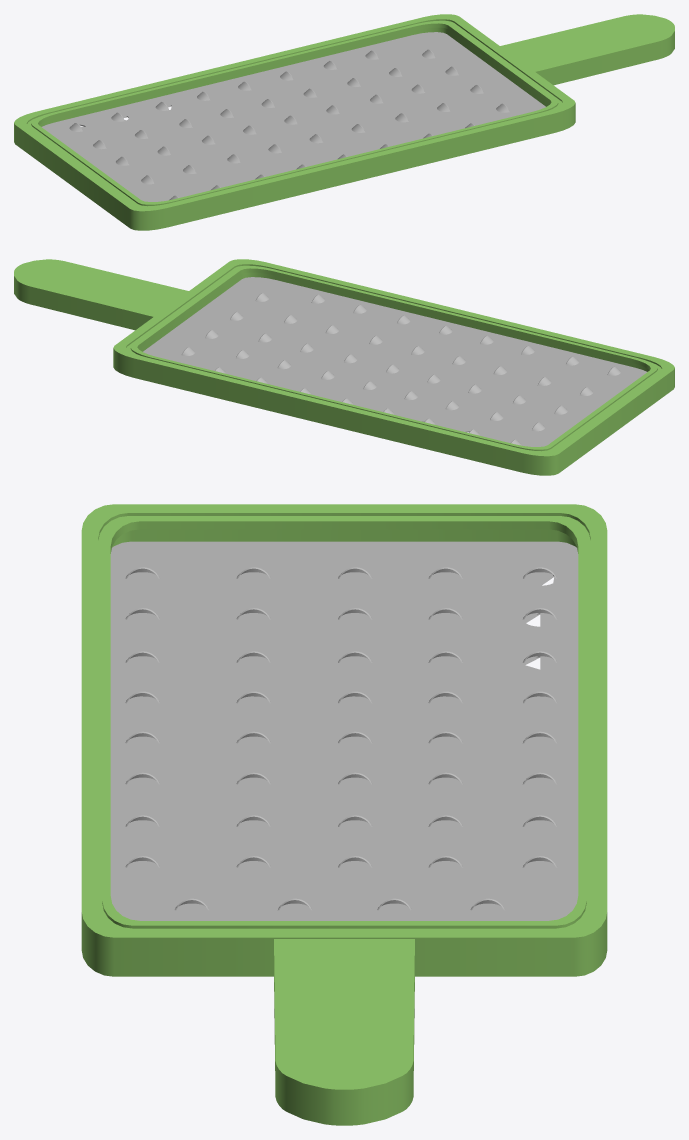
Rendered from Cheese-Grater_V03.fbx.
3 views of the same model, one above another, from view 1: azimuth 30°, elevation 25°; view 2: azimuth 150°, elevation 25°; view 3: azimuth 270°, elevation 25° (orthographic). The views are drawn at different scales.
Parts seen in each view (by area): view 1: Cutter.018; view 2: Cutter.018; view 3: Cutter.018.
Part boxes in pixels (x1,y1,x2,y2): Cutter.018: [14, 14, 674, 230]; Cutter.018: [14, 259, 674, 475]; Cutter.018: [81, 504, 607, 1125].
Bounding box in the file's own units: 209 × 6.52 × 79.57.
